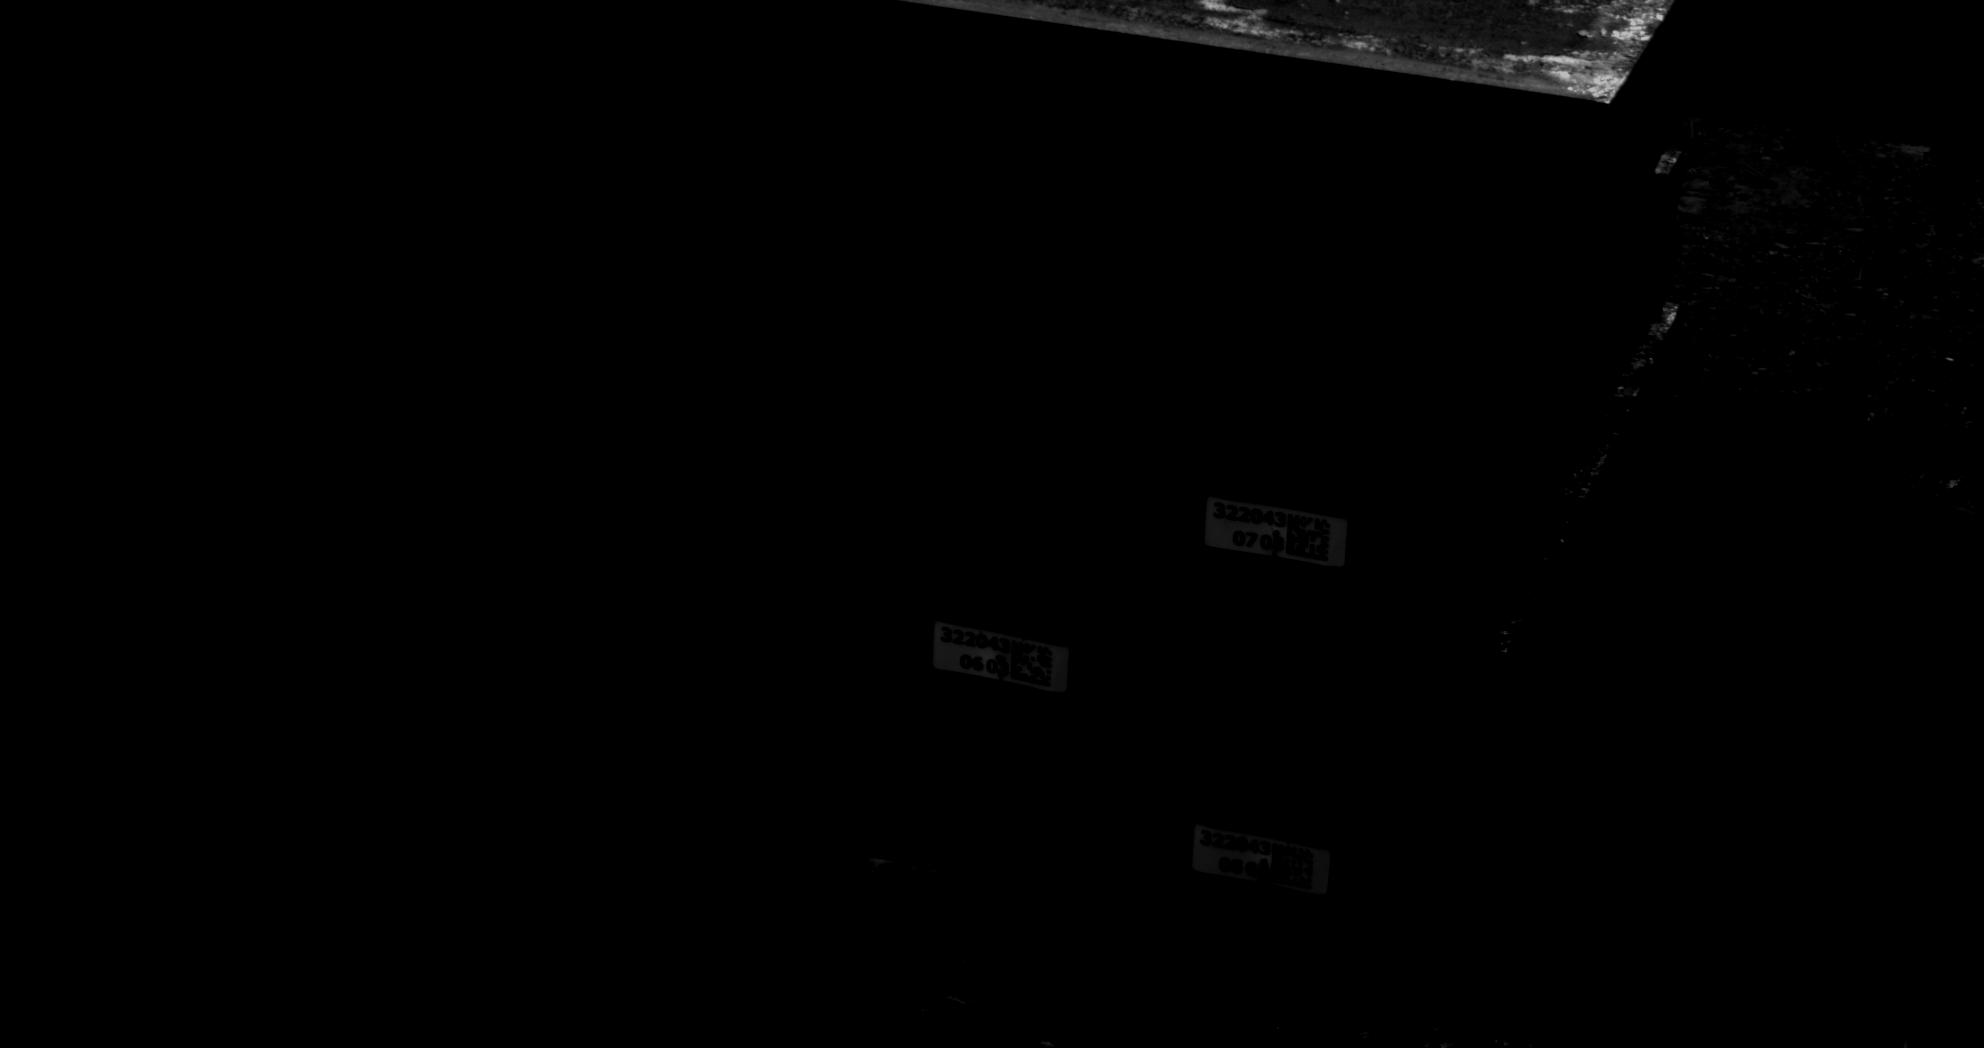data matrix: (1222, 296, 1273, 352), (1135, 113, 1184, 167), (1285, 512, 1333, 563), (1269, 842, 1317, 893), (1010, 637, 1055, 691)
